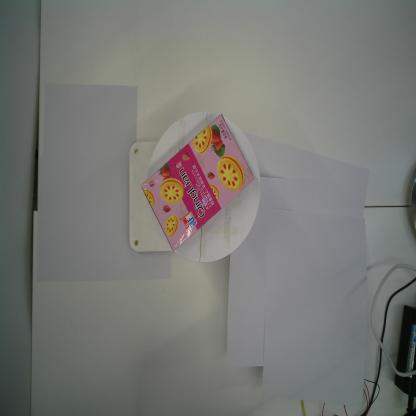Dessert: (140, 112, 256, 254)
